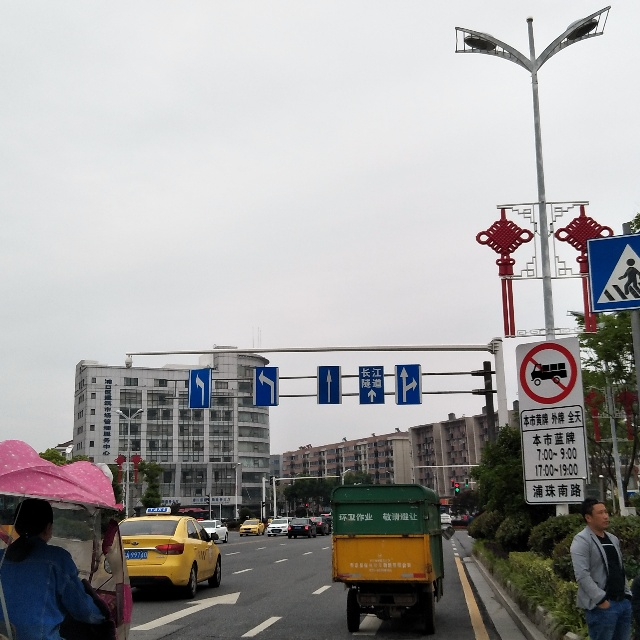left: (254, 367, 277, 407), (189, 370, 210, 408)
straight: (317, 366, 338, 403)
